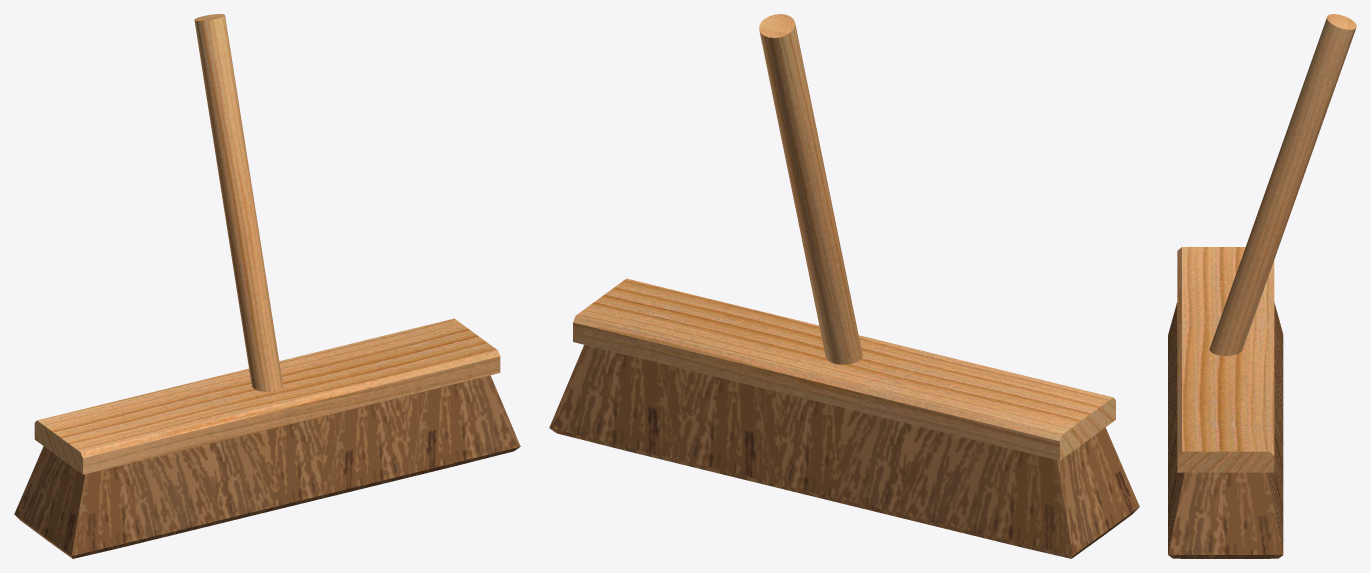
Rendered from broom_comp.fbx.
3 renders of one model, left to right at view 1: azimuth 30°, elevation 25°; view 2: azimuth 150°, elevation 25°; view 3: azimuth 270°, elevation 25°, orthographic. The views are drawn at different scales.
Visible parts, largest first — view 1: pCube1, pCylinder1; view 2: pCube1, pCylinder1; view 3: pCube1, pCylinder1.
Part boxes in pixels (left/top/right/bottom): pCube1: left=14, top=318, right=520, bottom=558; pCylinder1: left=194, top=14, right=282, bottom=391; pCube1: left=549, top=278, right=1139, bottom=558; pCylinder1: left=759, top=14, right=862, bottom=364; pCube1: left=1168, top=247, right=1283, bottom=558; pCylinder1: left=1209, top=14, right=1356, bottom=355.
Size of the model in its own units: 1076 by 992 by 390.
